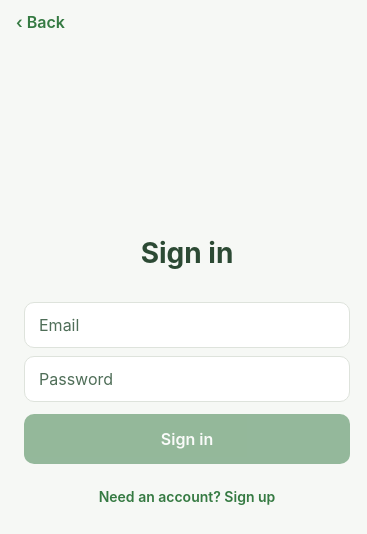
Test case: an invalid-credential error with no linked provider falls back to a generic message
Type "a@b.com" into the field with placeholder "Email" at {"x": 187, "y": 324}, box [24,302,350,348]
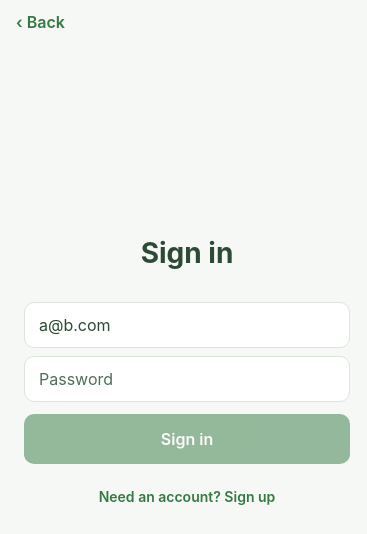
Type "wrong" into the password field with placeholder "Password" at {"x": 187, "y": 378}, box [24,356,350,402]
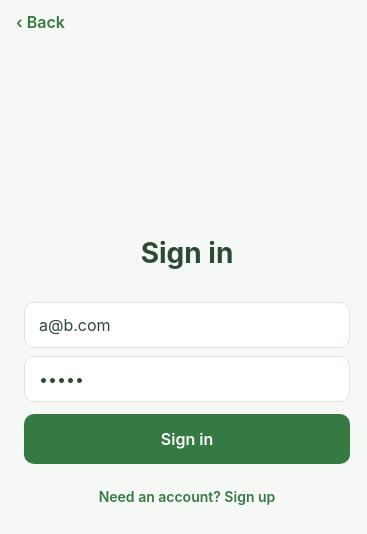
Click the element with test id "email-auth-submit" at {"x": 187, "y": 438}, box [24,414,350,464]
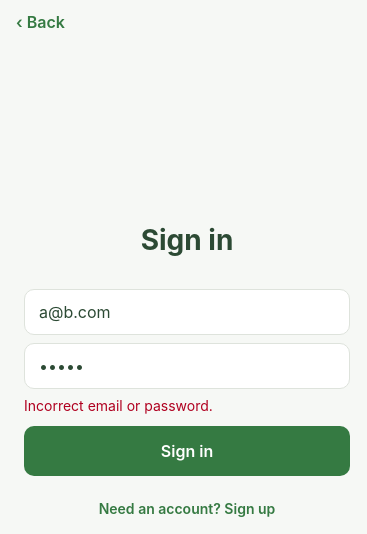
Check: the text "Incorrect email or password." is shown, box [24,397,213,414]
